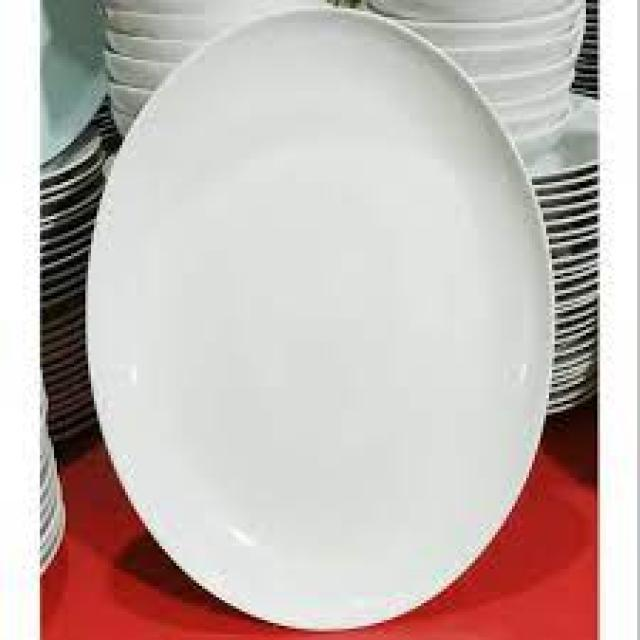Plate: (75, 4, 555, 631)
